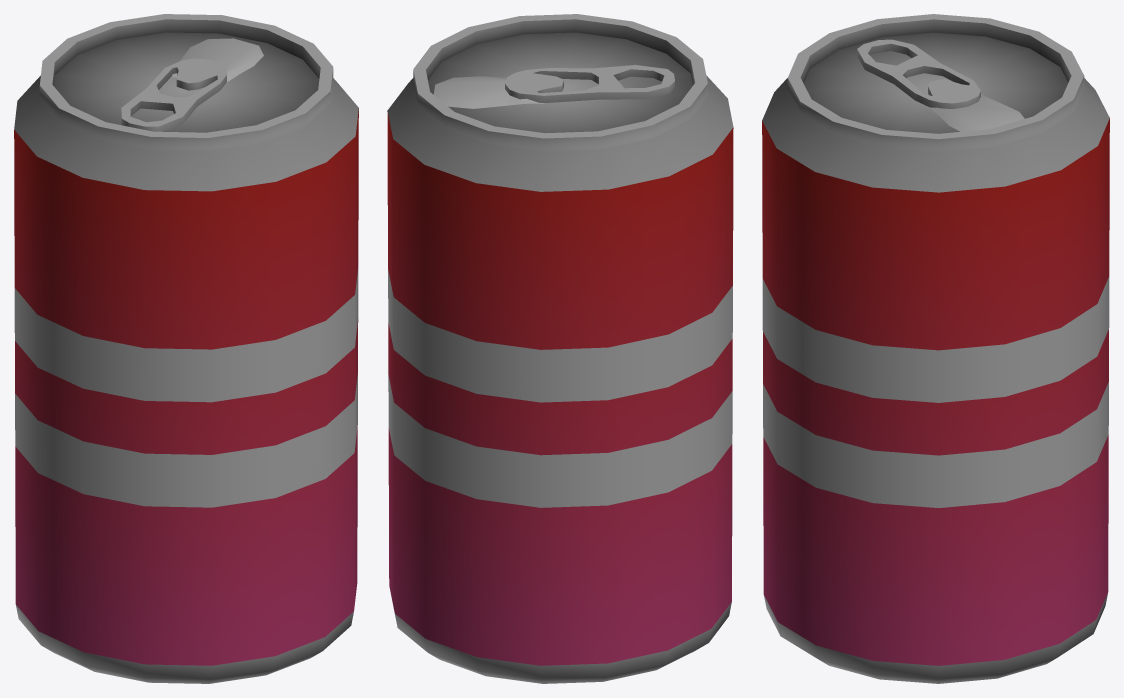
The model's file is consumables-drinks-canofsoda_v1.glb.
3 views of the same model, side by side, from view 1: azimuth 30°, elevation 25°; view 2: azimuth 150°, elevation 25°; view 3: azimuth 270°, elevation 25° (orthographic).
Visible parts, largest first — view 1: CanOfSoda_color, CanOfSoda_refl; view 2: CanOfSoda_color, CanOfSoda_refl; view 3: CanOfSoda_color, CanOfSoda_refl.
Boxes of the visible parts, x1,y1,x2,y2 form: CanOfSoda_color: (14, 108, 358, 665); CanOfSoda_refl: (14, 14, 358, 683); CanOfSoda_color: (387, 111, 733, 665); CanOfSoda_refl: (387, 14, 733, 683); CanOfSoda_color: (762, 118, 1109, 665); CanOfSoda_refl: (762, 14, 1109, 683).
Bounding box in the file's own units: 0.0918 × 0.1579 × 0.0918.
